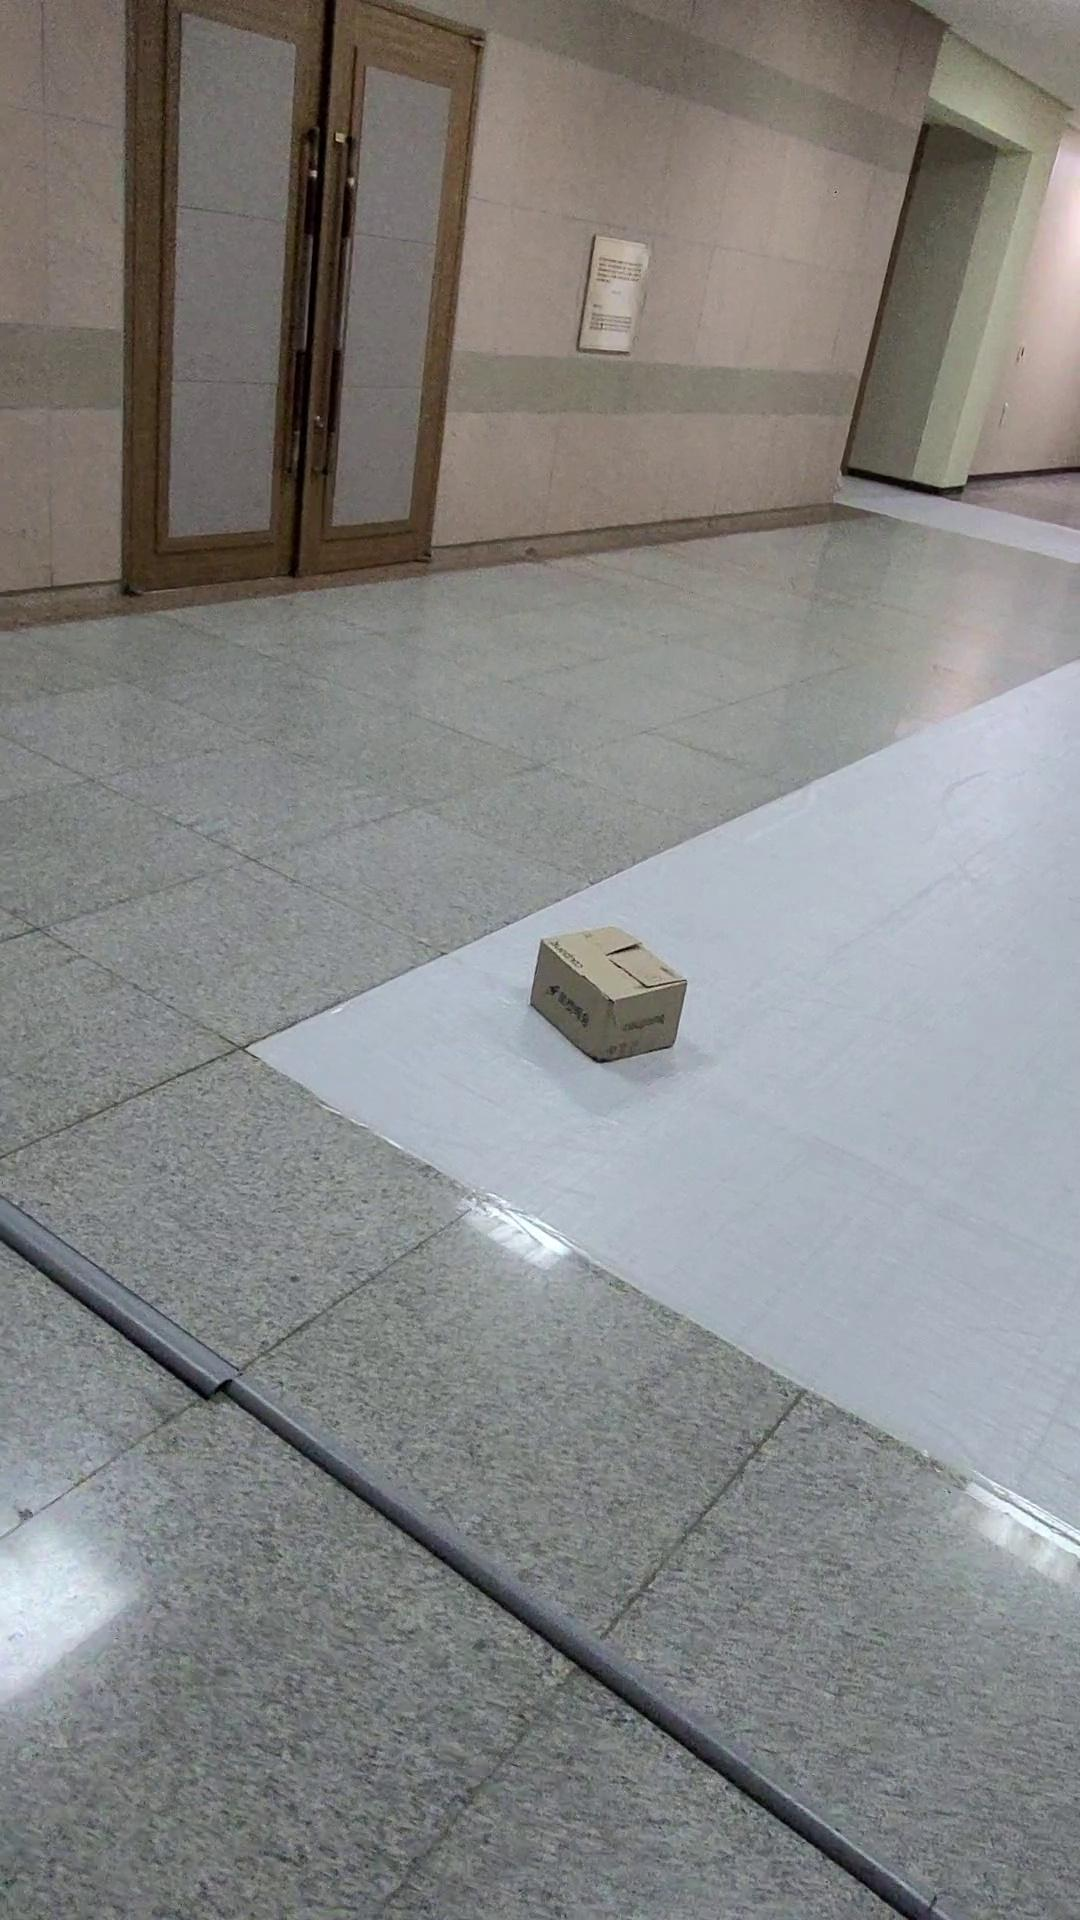Box: (521, 923, 700, 1063)
